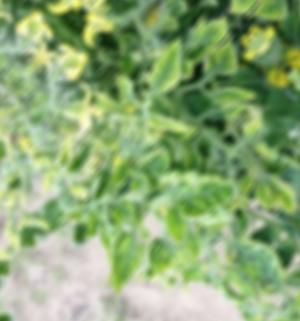Tomato leaf mosaic virus: (88, 225, 160, 298), (136, 35, 202, 103), (182, 167, 237, 222), (139, 234, 183, 279), (154, 202, 197, 245)
